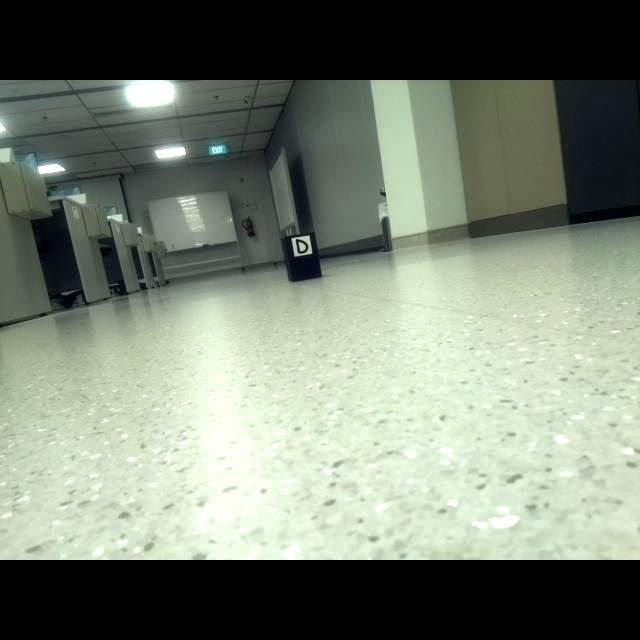D: (295, 239, 309, 255)
